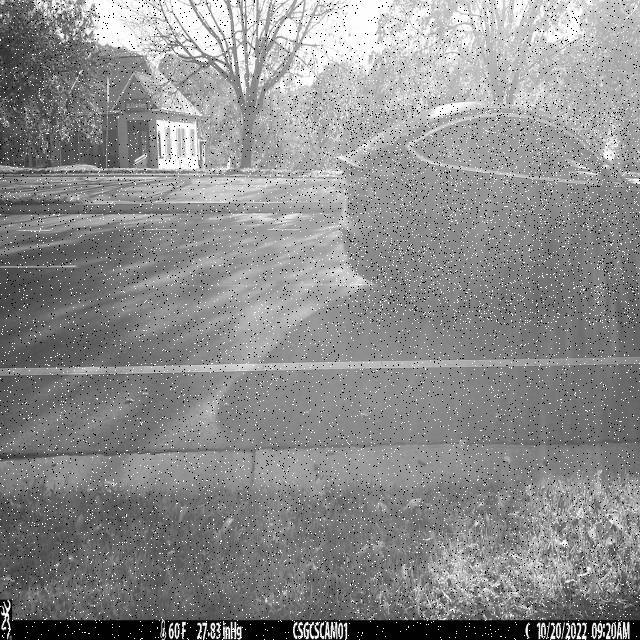Sedan: (338, 103, 640, 324)
